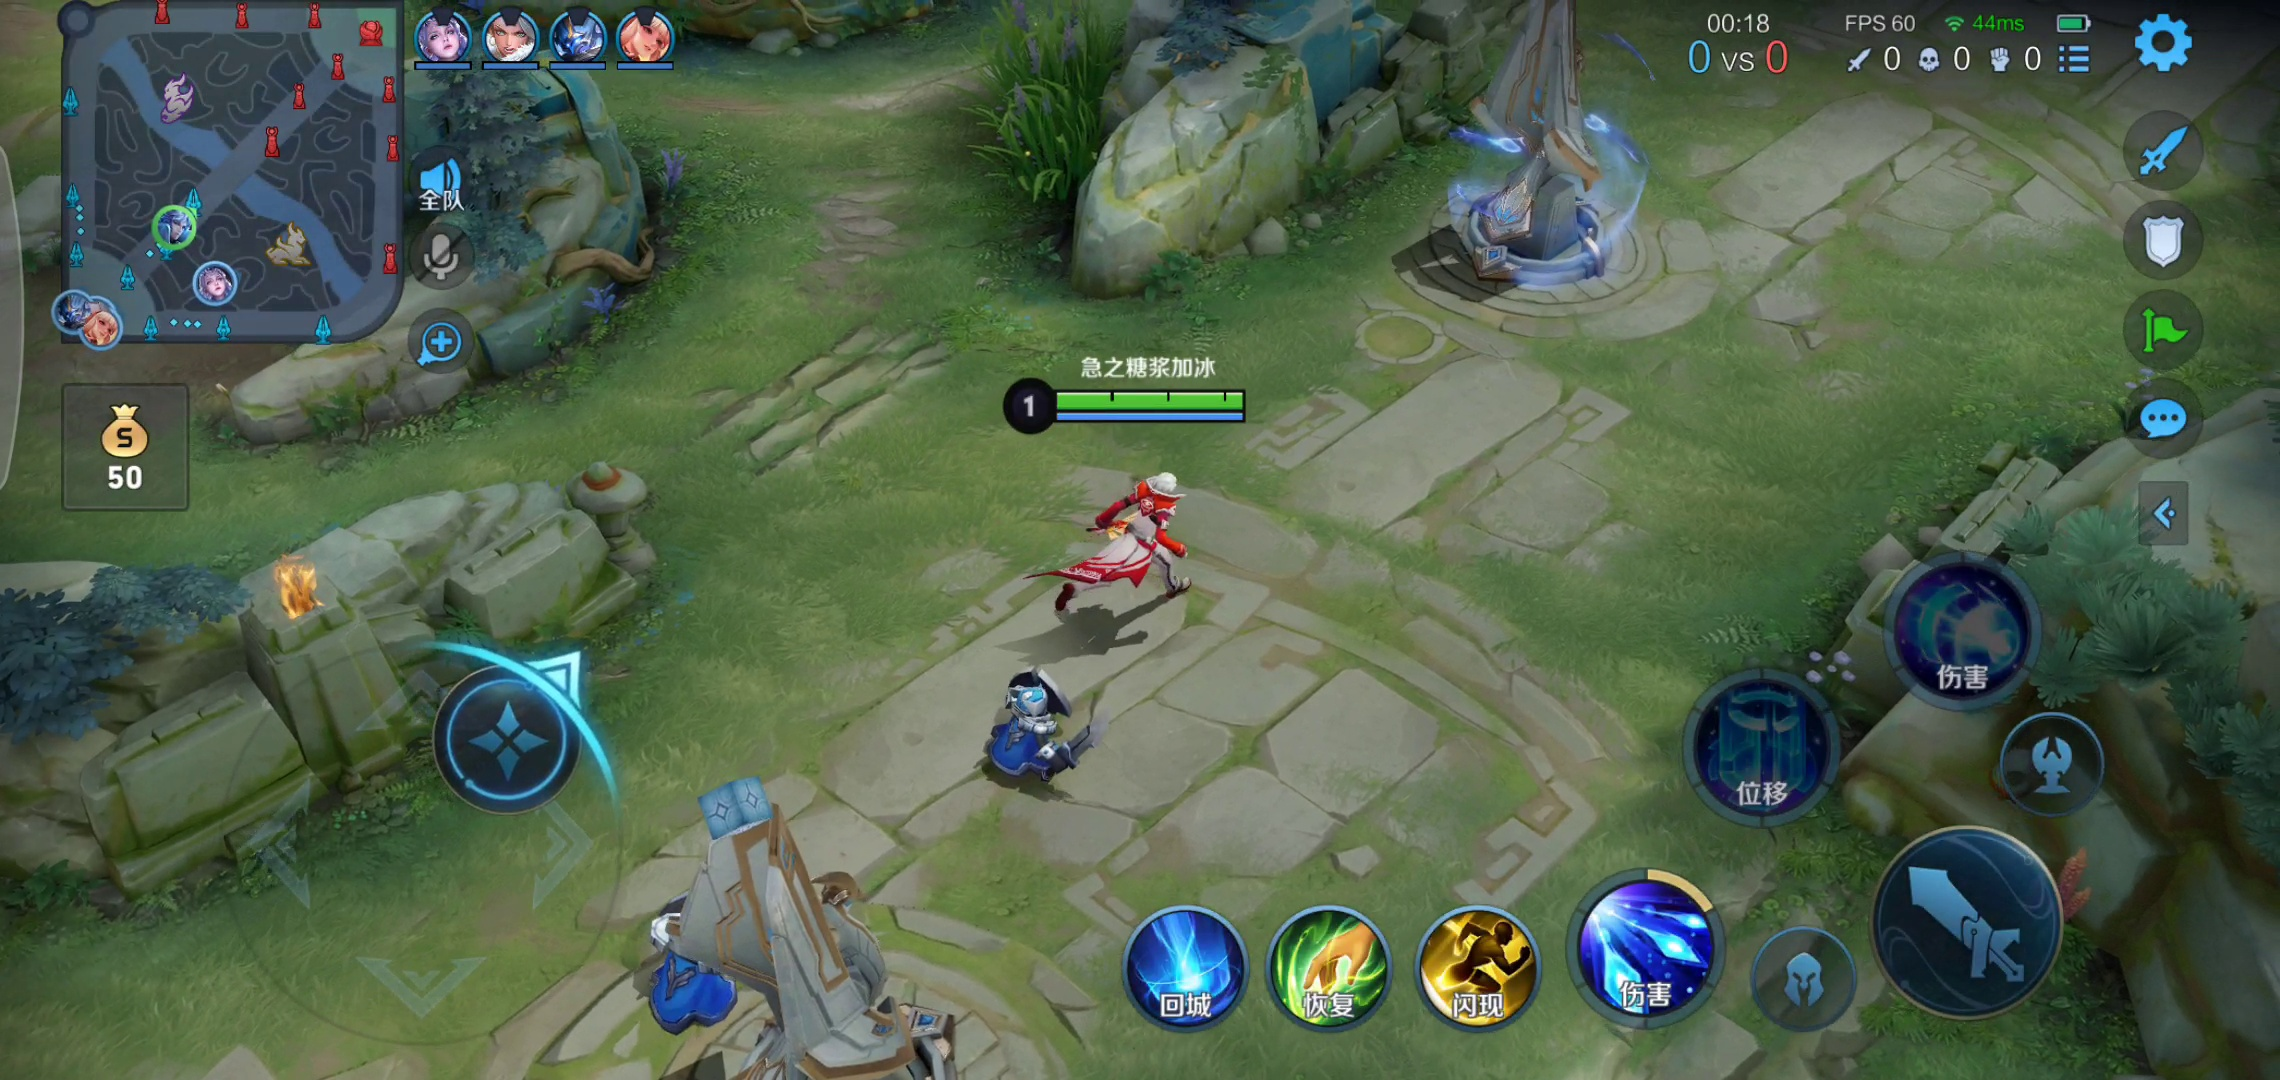grass: (984, 1, 1104, 211)
hero: (1037, 459, 1211, 616)
soldier: (968, 663, 1124, 786)
tower: (1426, 1, 1661, 310), (672, 824, 950, 1079)
